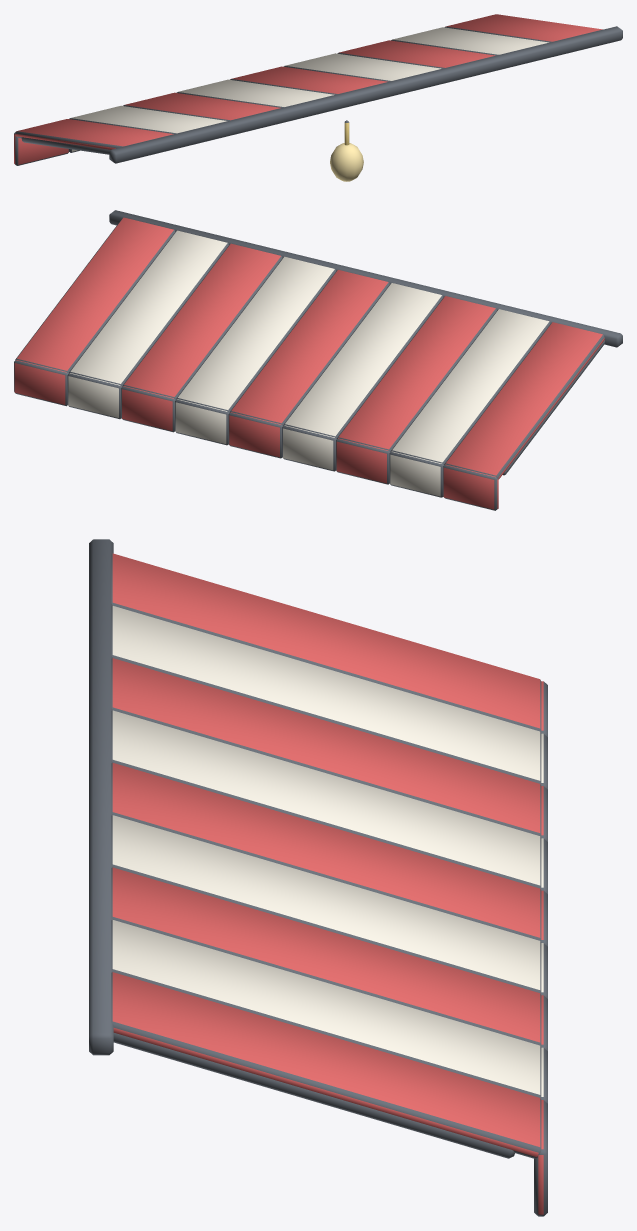
Rendered from OW_ShopAwning.fbx.
3 views of the same model, one above another, from view 1: azimuth 30°, elevation 25°; view 2: azimuth 150°, elevation 25°; view 3: azimuth 270°, elevation 25° (orthographic). The views are drawn at different scales.
Visible parts, largest first — view 1: OW_ShopAwning; view 2: OW_ShopAwning; view 3: OW_ShopAwning.
Boxes of the visible parts, <box> form: OW_ShopAwning: <box>14,14,622,181</box>; OW_ShopAwning: <box>14,210,622,510</box>; OW_ShopAwning: <box>89,539,547,1216</box>.
Size of the model in its own units: 380 by 75 by 148.
